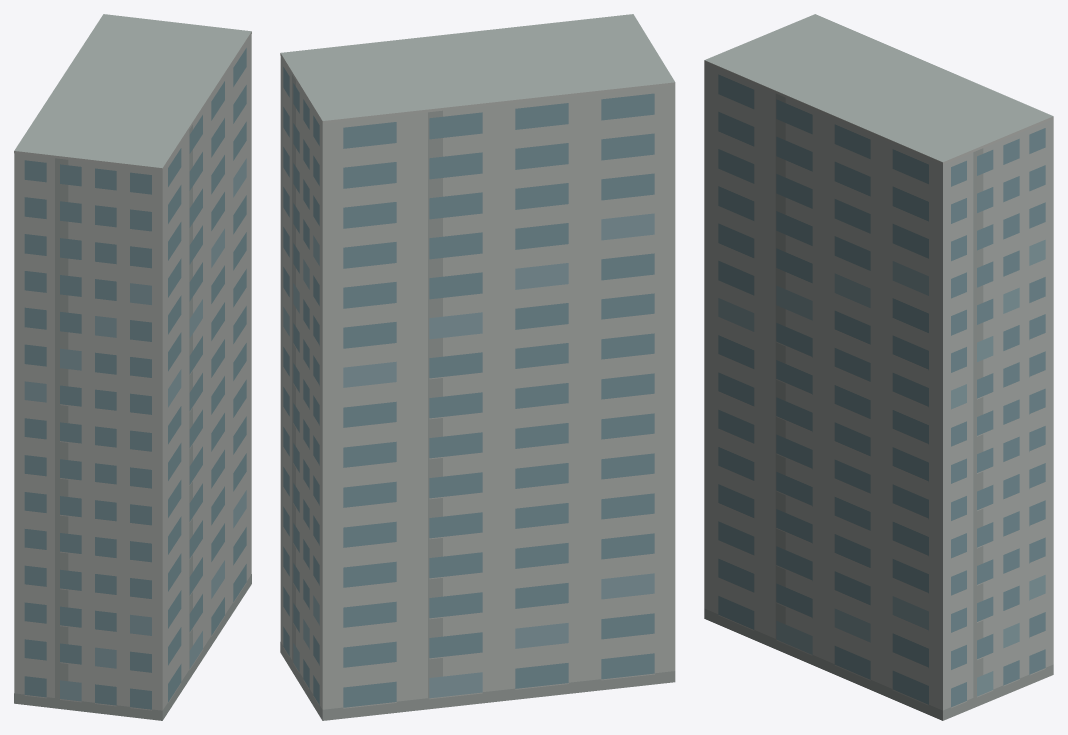
Rendered from residential-4fb94ebd-9c2e-405f-9867-74b2c69c2fd1.glb.
3 renders of one model, left to right at view 1: azimuth 30°, elevation 25°; view 2: azimuth 150°, elevation 25°; view 3: azimuth 270°, elevation 25°, orthographic. The views are drawn at different scales.
Parts seen in each view (by area): view 1: residential-4fb94ebd-9c2e-405f-9867-74b2c69c2fd1.tmp; view 2: residential-4fb94ebd-9c2e-405f-9867-74b2c69c2fd1.tmp; view 3: residential-4fb94ebd-9c2e-405f-9867-74b2c69c2fd1.tmp.
Boxes of the visible parts, box(x1,y1,x2,y2) form: residential-4fb94ebd-9c2e-405f-9867-74b2c69c2fd1.tmp: box(14, 14, 251, 720); residential-4fb94ebd-9c2e-405f-9867-74b2c69c2fd1.tmp: box(280, 14, 675, 720); residential-4fb94ebd-9c2e-405f-9867-74b2c69c2fd1.tmp: box(704, 14, 1053, 720).
Size of the model in its own units: 29.62 by 52 by 29.46.
